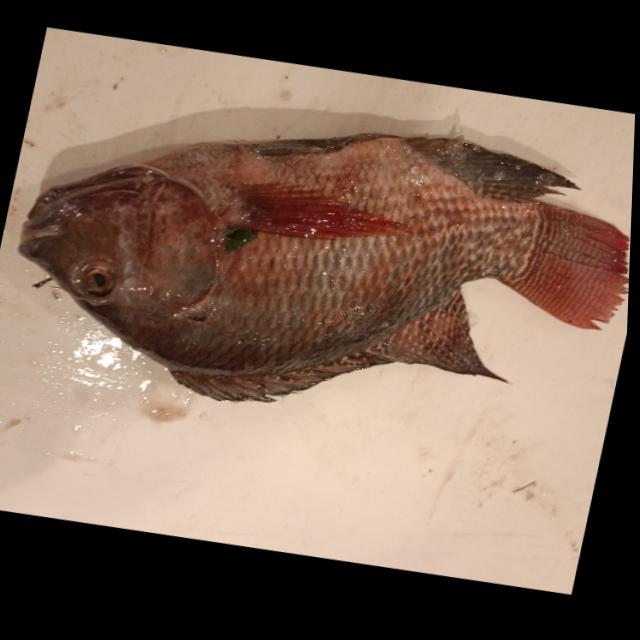Tilapia: (0, 60, 637, 478)
